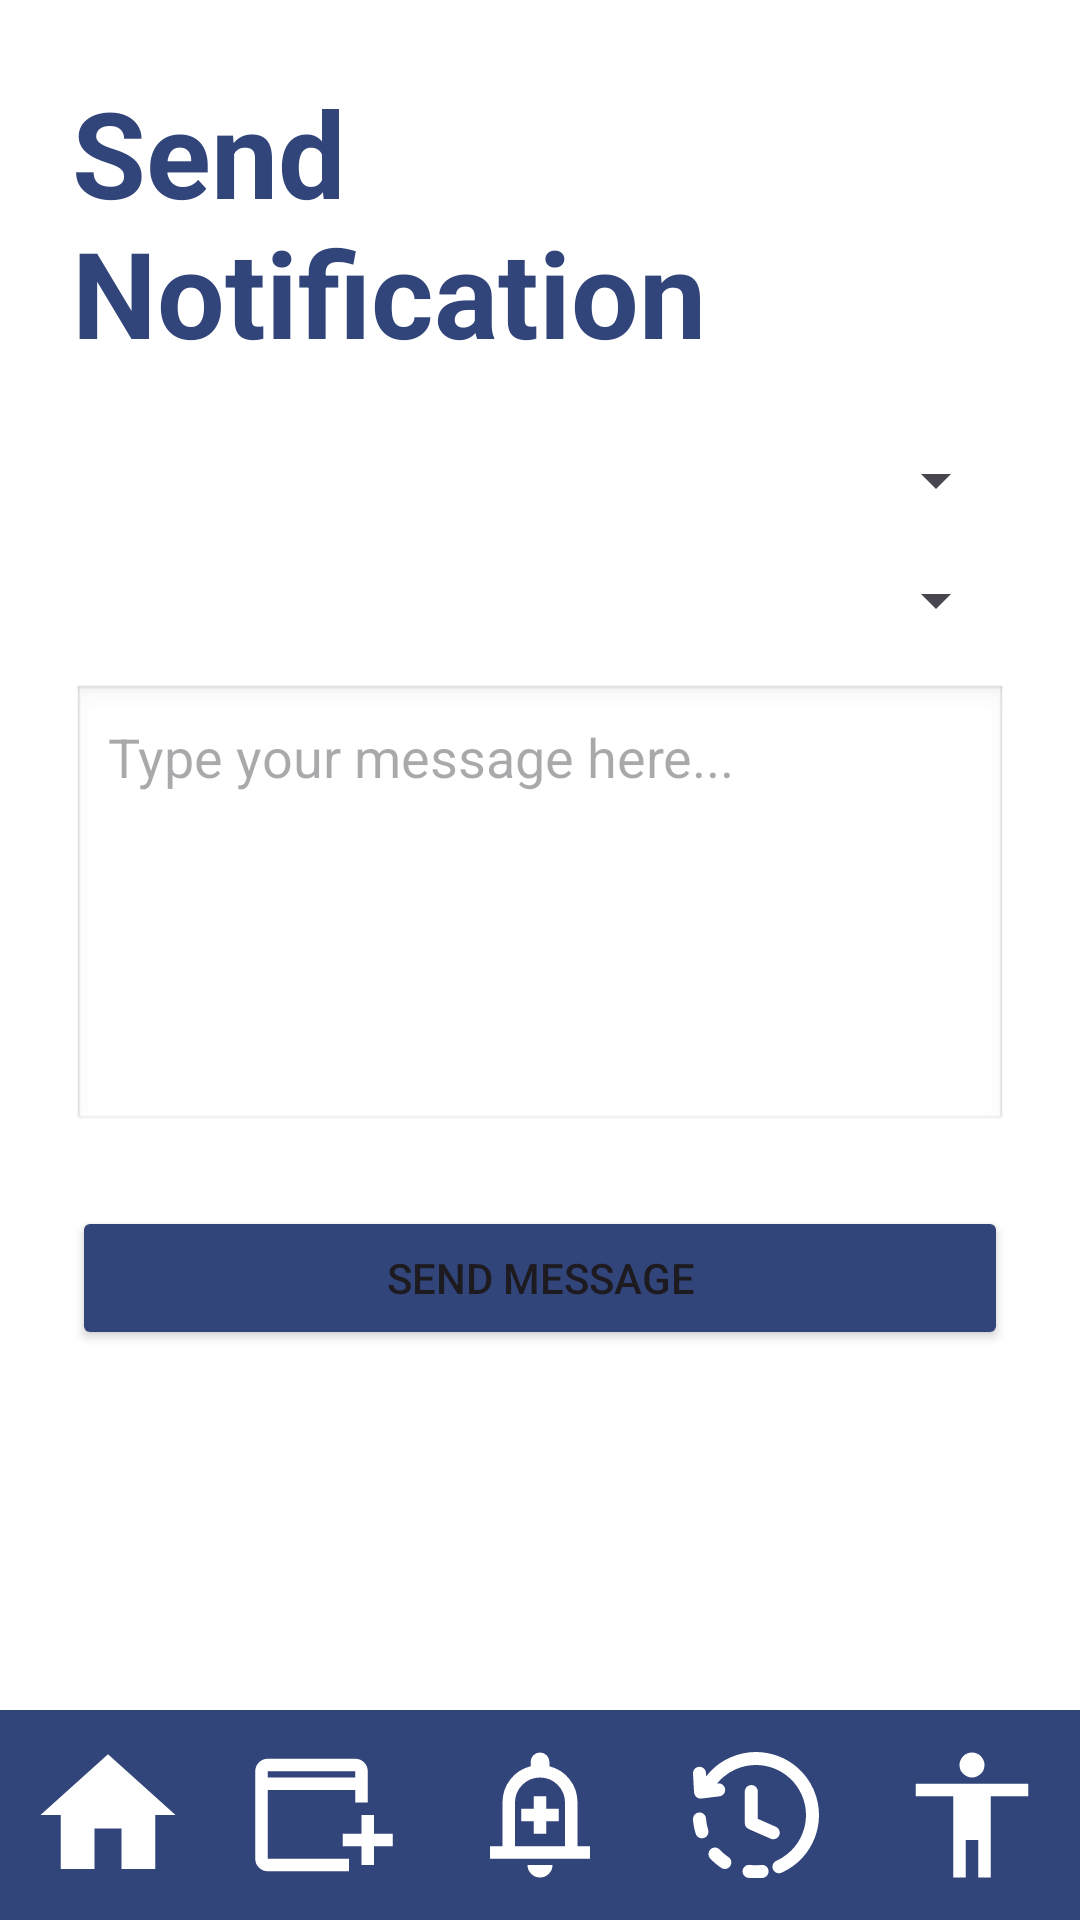

Locate icon controls on the screen. Image size 1080w x 1920h, boxes as [left=x1, top=y1, right=x2, bottom=y2].
event: [left=255, top=1758, right=393, bottom=1872]
history: [left=693, top=1752, right=819, bottom=1878]
home: [left=41, top=1754, right=175, bottom=1869]
notification: [left=490, top=1752, right=590, bottom=1878]
profile: [left=915, top=1752, right=1029, bottom=1878]
